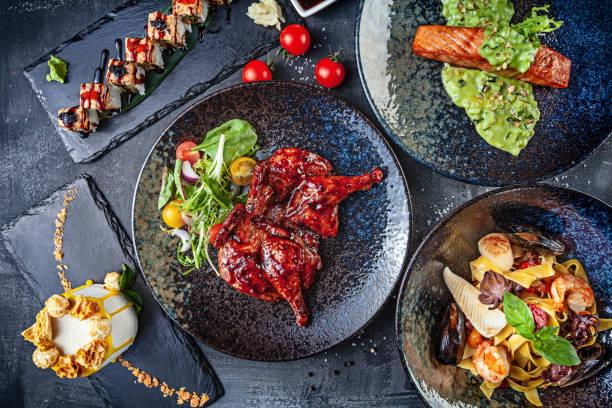Braised Crucian Carp: (133, 79, 404, 358), (392, 185, 610, 406), (364, 1, 606, 184)
